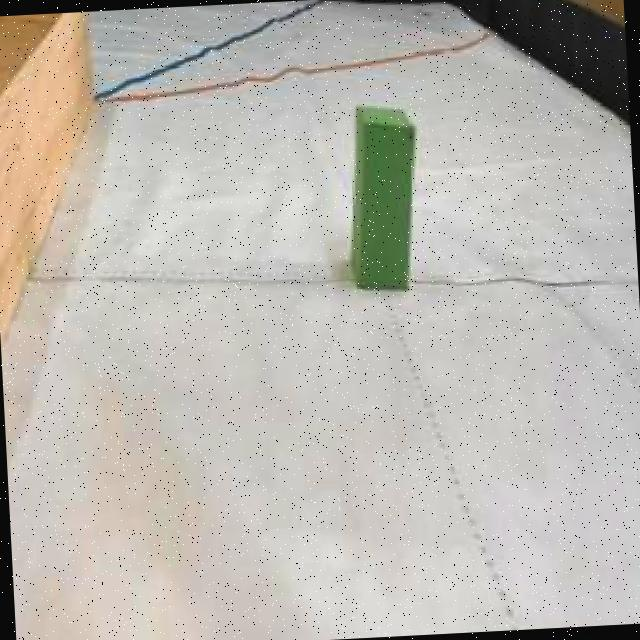greenbox: (342, 107, 422, 290)
